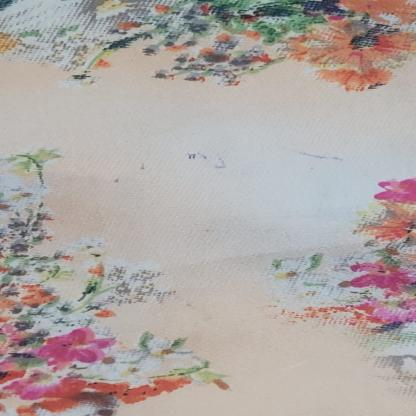spot: (296, 151, 349, 166), (177, 150, 218, 164), (127, 163, 161, 174), (109, 177, 134, 191), (212, 156, 230, 172)
